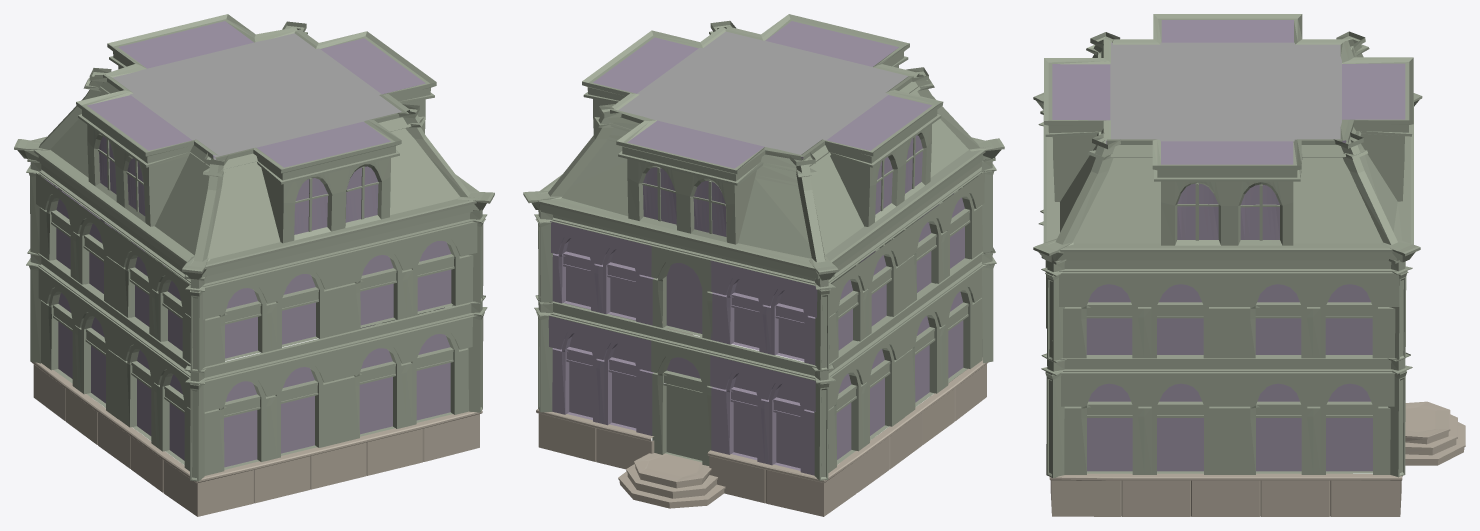
The model's file is Magistrate_Finished.fbx.
3 views of the same model, side by side, from view 1: azimuth 30°, elevation 25°; view 2: azimuth 150°, elevation 25°; view 3: azimuth 270°, elevation 25° (orthographic). The views are drawn at different scales.
Visible parts, largest first — view 1: pPlane4; view 2: pPlane4; view 3: pPlane4.
Boxes of the visible parts, bbox=[...] form: pPlane4: bbox=[14, 14, 494, 516]; pPlane4: bbox=[523, 14, 1004, 516]; pPlane4: bbox=[1033, 14, 1465, 516].
Bounding box in the file's own units: 12.3 × 12.37 × 13.7.
